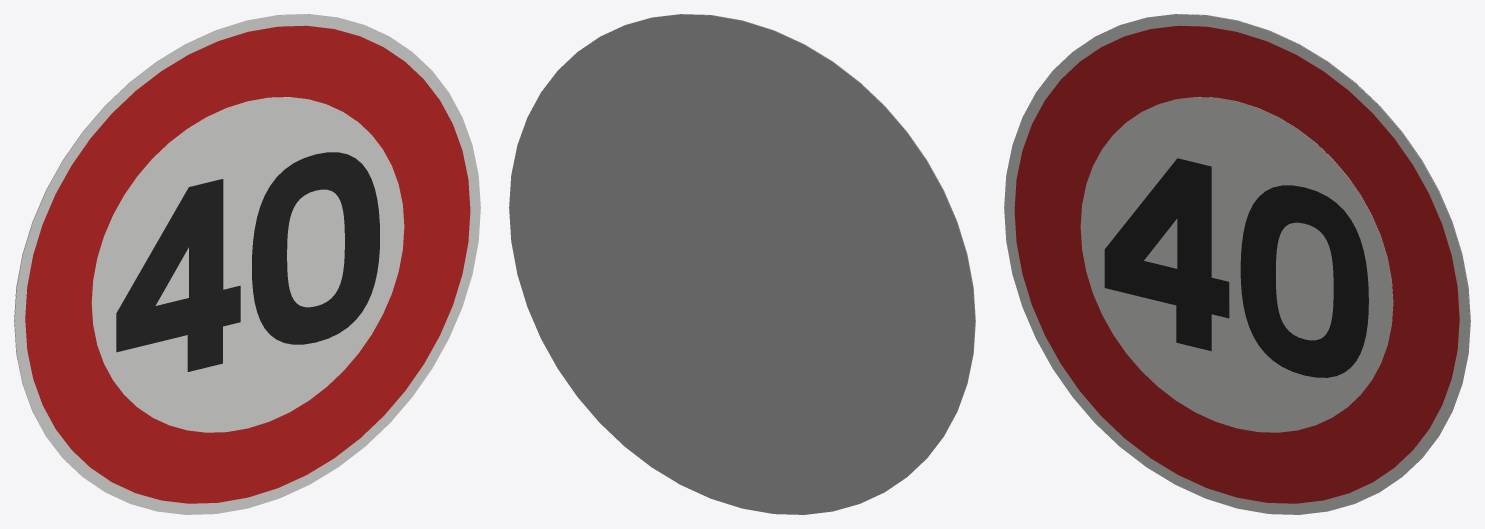
3 views of the same model, side by side, from view 1: azimuth 30°, elevation 25°; view 2: azimuth 150°, elevation 25°; view 3: azimuth 330°, elevation 25° (orthographic).
Parts seen in each view (by area): view 1: B14-40_p01, B14-40_p02, B14-40_p00, B14-40_p03, B14-40_p04, B14-40_dos; view 2: B14-40_dos, B14-40_p00; view 3: B14-40_p01, B14-40_p02, B14-40_p00, B14-40_p03, B14-40_p04, B14-40_dos.
Boxes of the visible parts, <box> form: B14-40_p01: <box>25,25,470,503</box>; B14-40_p02: <box>91,97,404,432</box>; B14-40_p00: <box>14,14,480,514</box>; B14-40_p03: <box>252,152,379,344</box>; B14-40_p04: <box>116,179,240,371</box>; B14-40_dos: <box>14,14,385,473</box>; B14-40_dos: <box>509,14,975,514</box>; B14-40_p00: <box>604,14,975,473</box>; B14-40_p01: <box>1014,25,1459,503</box>; B14-40_p02: <box>1080,97,1393,432</box>; B14-40_p00: <box>1004,14,1470,514</box>; B14-40_p03: <box>1240,185,1368,377</box>; B14-40_p04: <box>1104,158,1229,351</box>; B14-40_dos: <box>1099,14,1470,473</box>.
Size of the model in its own units: 0.85 by 0.8498 by 0.0035.
